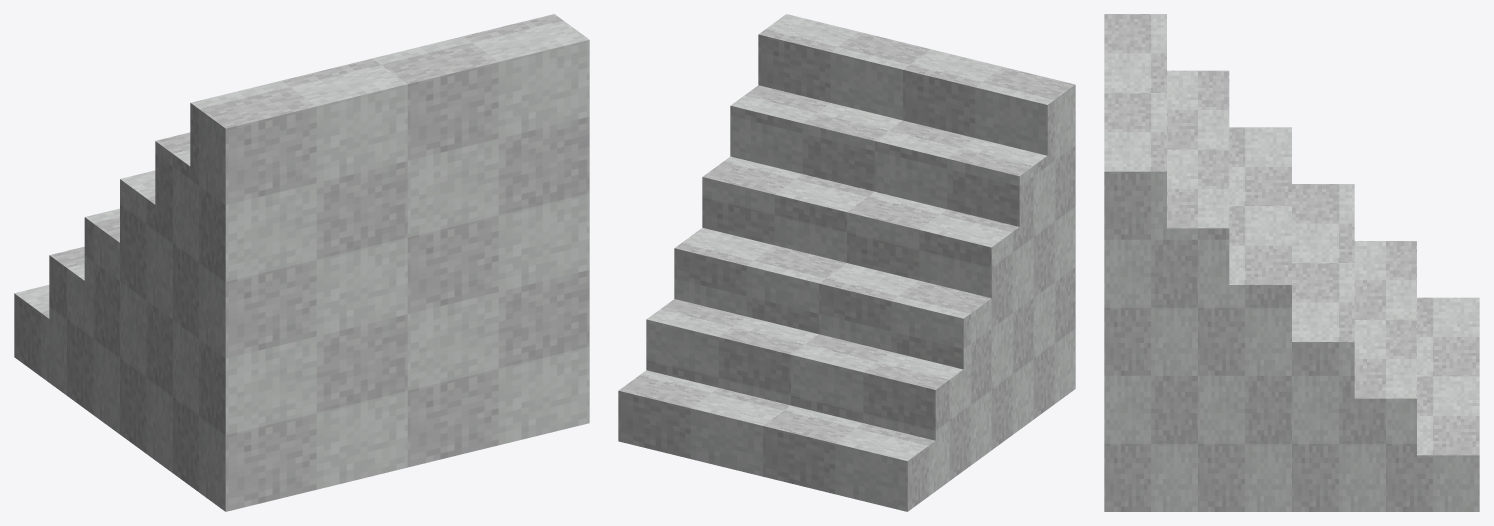
File: Stair.fbx
The picture shows the model from 3 angles, left to right: view 1: azimuth 30°, elevation 25°; view 2: azimuth 150°, elevation 25°; view 3: azimuth 270°, elevation 25°; orthographic projection. The views are drawn at different scales.
Visible parts, largest first — view 1: Stair; view 2: Stair; view 3: Stair.
Boxes of the visible parts, <box> form: Stair: <box>14,14,589,511</box>; Stair: <box>618,14,1075,511</box>; Stair: <box>1104,14,1479,511</box>.
Size of the model in its own units: 98.86 by 99.48 by 99.48.
1 material, 1 textured.
